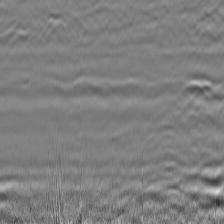cavities: (97, 30, 224, 163), (0, 53, 78, 159)
